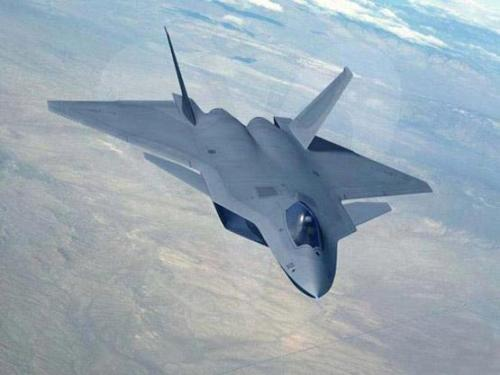airplane: (45, 25, 434, 301)
